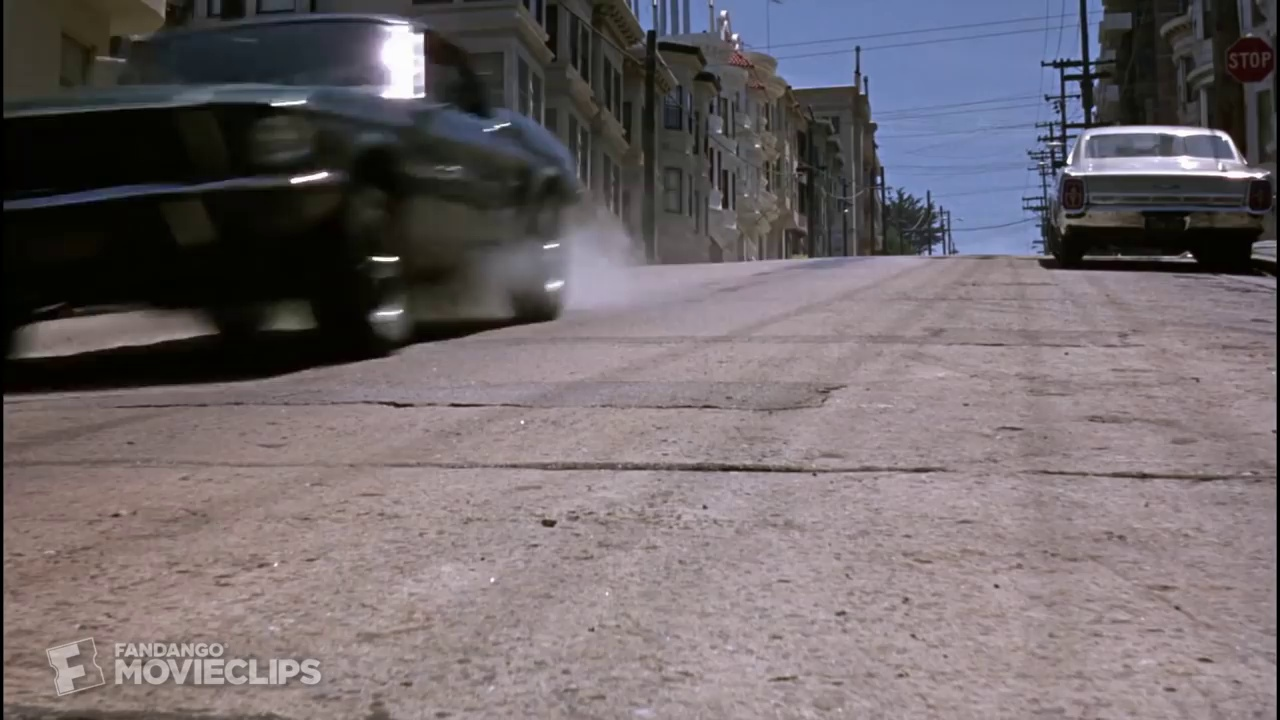car: (1, 7, 606, 374), (1026, 117, 1278, 277)
stop sign: (1212, 29, 1280, 91)
